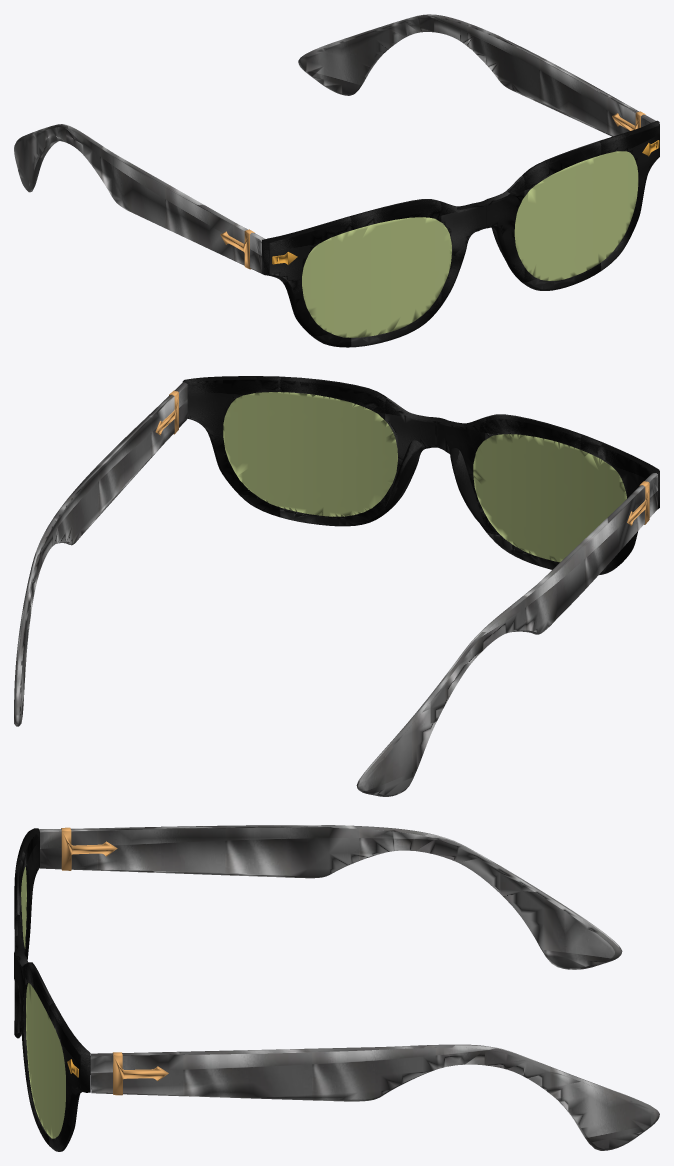
Rendered from lentes-sol-negros-lite.glb.
3 renders of one model, top to bottom at view 1: azimuth 30°, elevation 25°; view 2: azimuth 150°, elevation 25°; view 3: azimuth 270°, elevation 25°, orthographic. The views are drawn at different scales.
Visible parts, largest first — view 1: Object_9, Object_12, Object_10, Object_8; view 2: Object_9, Object_12, Object_10, Object_8; view 3: Object_12, Object_10, Object_9, Object_8.
Part boxes in pixels (left/top/right/bottom): Object_9: left=302, top=151, right=638, bottom=337; Object_12: left=14, top=14, right=655, bottom=273; Object_10: left=262, top=120, right=659, bottom=347; Object_8: left=220, top=111, right=645, bottom=269; Object_9: left=223, top=392, right=626, bottom=562; Object_12: left=14, top=382, right=657, bottom=796; Object_10: left=182, top=376, right=659, bottom=574; Object_8: left=155, top=390, right=649, bottom=525; Object_12: left=39, top=825, right=659, bottom=1150; Object_10: left=14, top=828, right=90, bottom=1151; Object_9: left=21, top=867, right=65, bottom=1138; Object_8: left=61, top=827, right=168, bottom=1095.
Bounding box in the file's own units: 0.14 × 0.0418 × 0.1609.
5 materials, 2 textured.
